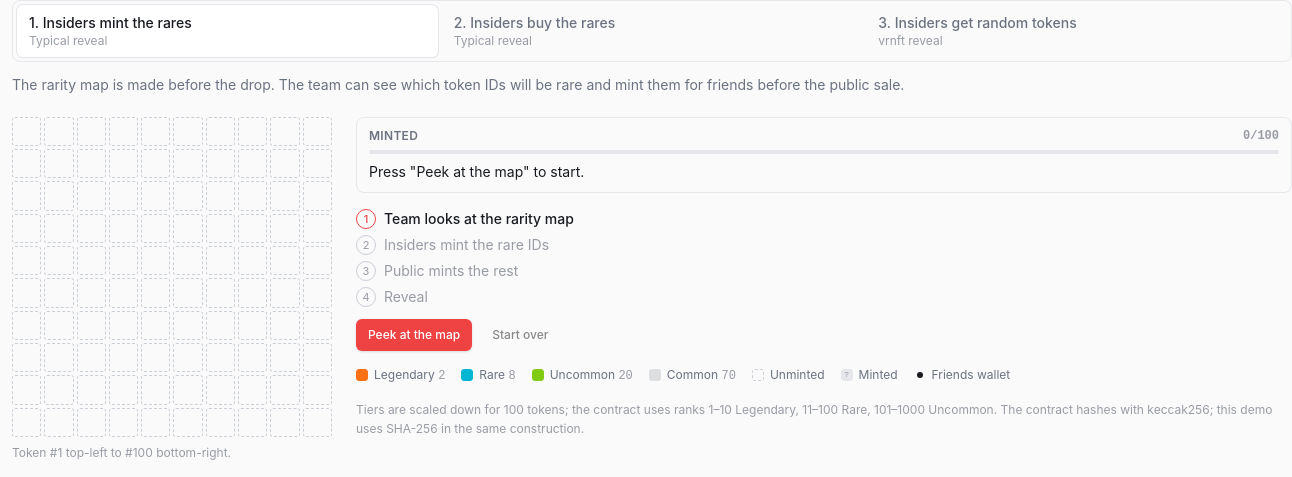
Test: RevealSimulator › offers exactly one next step at a time and marks progress
Expected: the list item "1 Team looks at the rarity map" is shown, [356,209,574,229]
Expected: the button "Start over" is disabled, [480,319,560,351]
Click the button "Peek at the map". click: [414, 335]
box: [356,319,472,351]
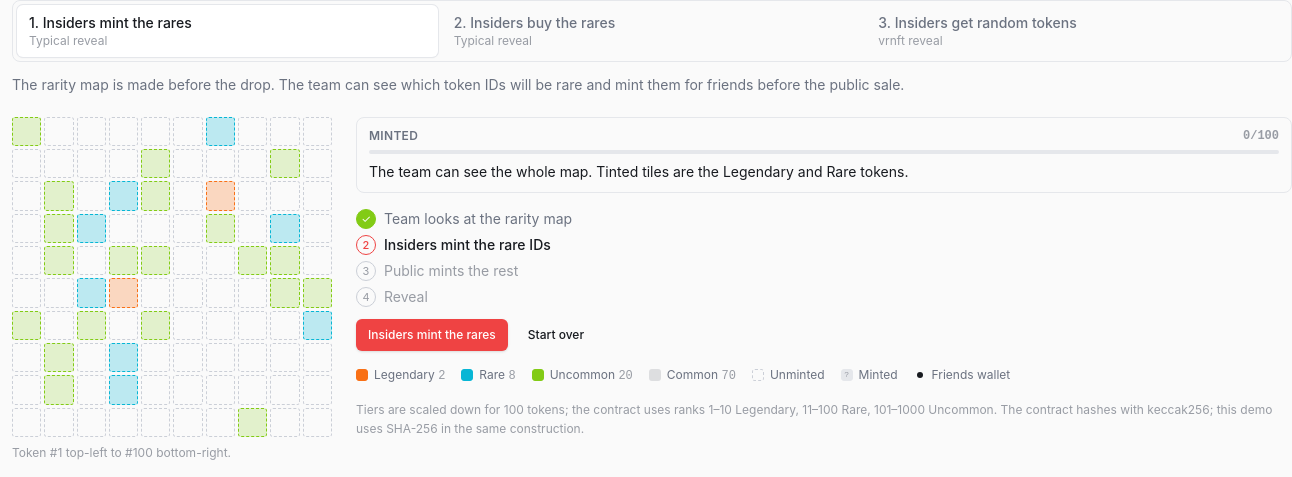
Expected: the list item "2 Insiders mint the rare IDs" is shown, [356,235,551,255]
Now the text "Peek at the map" is gone
Now the button "Start over" is enabled, box [516,319,596,351]
